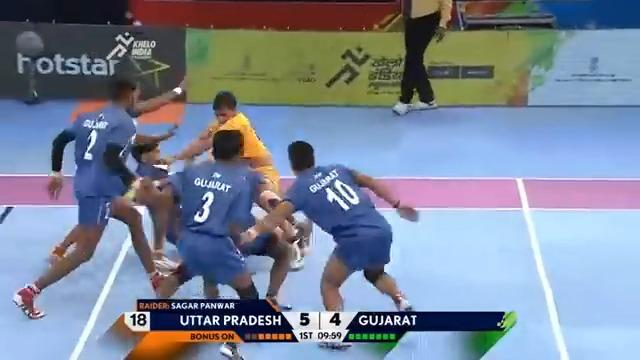Player: (12, 71, 184, 319), (241, 139, 419, 350), (167, 89, 303, 310), (391, 0, 453, 115)
Raider: (199, 86, 303, 212)
